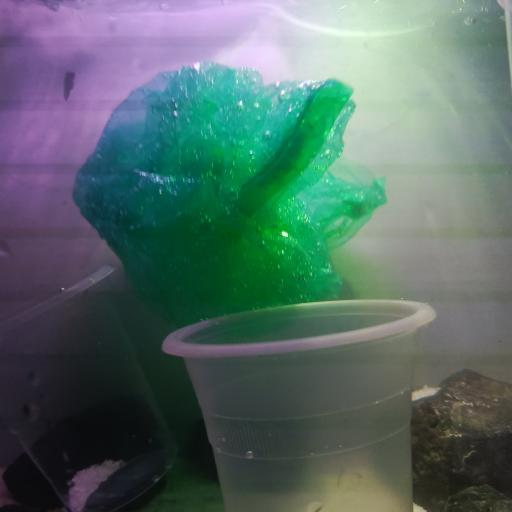plastic_bag: (70, 58, 386, 314)
plastic_cup: (158, 292, 439, 512), (0, 261, 181, 507)
